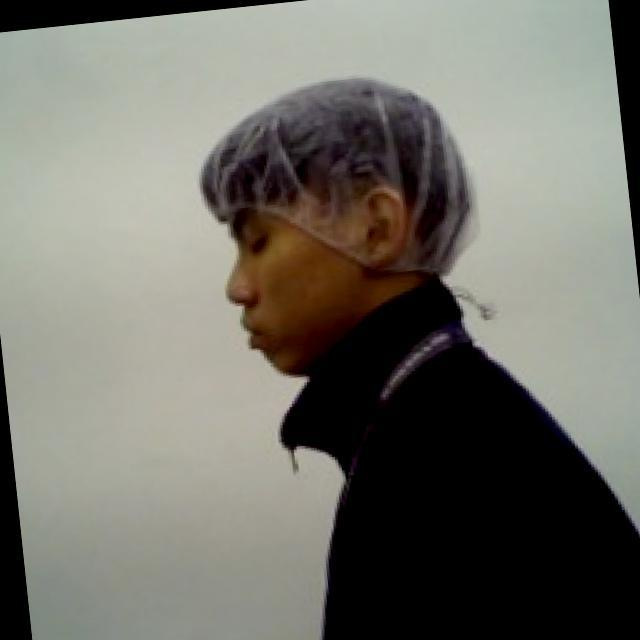no_gloves: (199, 66, 481, 260)
no_hairnet: (218, 252, 375, 371)
